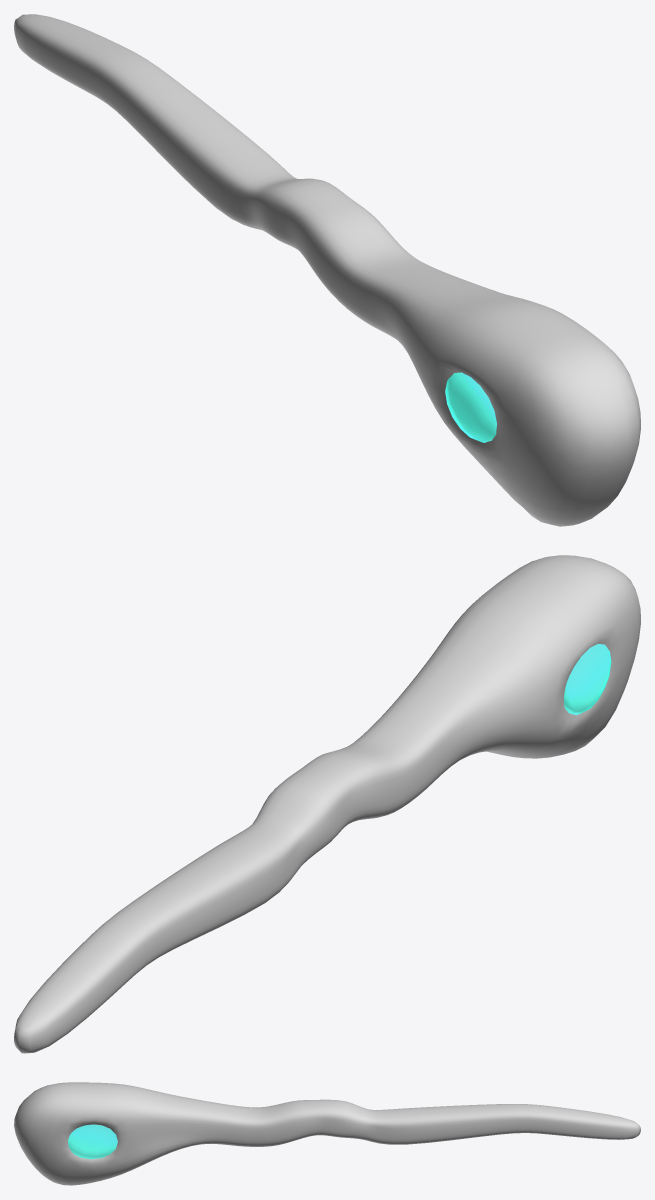
Rendered from staff.fbx.
3 renders of one model, top to bottom at view 1: azimuth 30°, elevation 25°; view 2: azimuth 150°, elevation 25°; view 3: azimuth 270°, elevation 25°, orthographic. The views are drawn at different scales.
Visible parts, largest first — view 1: Cube, Diamond; view 2: Cube, Diamond; view 3: Cube, Diamond.
Part boxes in pixels (x1,y1,x2,y2): Cube: [14, 14, 640, 526]; Diamond: [445, 372, 496, 442]; Cube: [14, 555, 640, 1053]; Diamond: [564, 643, 611, 715]; Cube: [14, 1082, 640, 1185]; Diamond: [68, 1124, 117, 1159].
Size of the model in its own units: 0.5849 by 0.7922 by 4.74.
